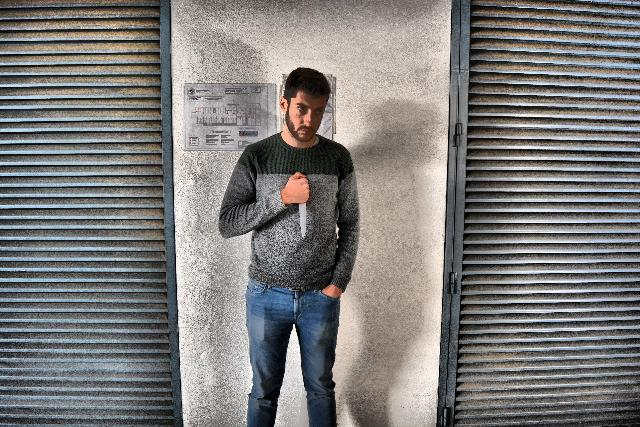knife: (293, 170, 311, 240)
